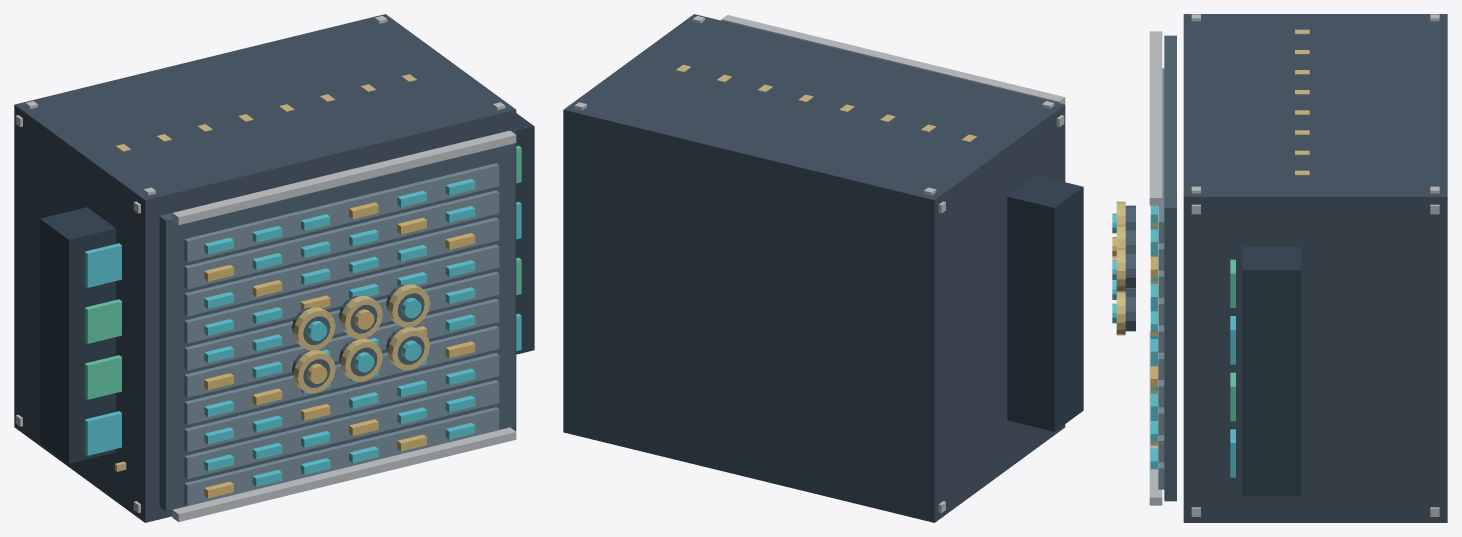
The model's file is 46_L81_PacketRetransmissionBuffer.glb.
3 renders of one model, left to right at view 1: azimuth 30°, elevation 25°; view 2: azimuth 150°, elevation 25°; view 3: azimuth 270°, elevation 25°, orthographic.
Visible parts, largest first — view 1: PacketRetransmissionBuffer_Node_0000, PacketRetransmissionBuffer_Node_0009, PacketRetransmissionBuffer_Node_0090, PacketRetransmissionBuffer_Node_0024, PacketRetransmissionBuffer_Node_0073, PacketRetransmissionBuffer_Node_0059, PacketRetransmissionBuffer_Node_0010, PacketRetransmissionBuffer_Node_0017, PacketRetransmissionBuffer_Node_0066, PacketRetransmissionBuffer_Node_0052, PacketRetransmissionBuffer_Node_0081, PacketRetransmissionBuffer_Node_0080 (+13 smaller); view 2: PacketRetransmissionBuffer_Node_0000, PacketRetransmissionBuffer_Node_0090, PacketRetransmissionBuffer_Node_0081; view 3: PacketRetransmissionBuffer_Node_0000, PacketRetransmissionBuffer_Node_0090, PacketRetransmissionBuffer_Node_0009, PacketRetransmissionBuffer_Node_0081, PacketRetransmissionBuffer_Node_0080, PacketRetransmissionBuffer_Node_0073, PacketRetransmissionBuffer_Node_0145, PacketRetransmissionBuffer_Node_0136, PacketRetransmissionBuffer_Node_0135, PacketRetransmissionBuffer_Node_0144.
Boxes of the visible parts, bbox=[...] form: PacketRetransmissionBuffer_Node_0000: bbox=[14, 14, 516, 522]; PacketRetransmissionBuffer_Node_0009: bbox=[159, 143, 514, 510]; PacketRetransmissionBuffer_Node_0090: bbox=[40, 113, 534, 463]; PacketRetransmissionBuffer_Node_0024: bbox=[184, 353, 499, 451]; PacketRetransmissionBuffer_Node_0073: bbox=[184, 163, 499, 262]; PacketRetransmissionBuffer_Node_0059: bbox=[184, 217, 499, 316]; PacketRetransmissionBuffer_Node_0010: bbox=[184, 407, 499, 506]; PacketRetransmissionBuffer_Node_0017: bbox=[184, 380, 499, 478]; PacketRetransmissionBuffer_Node_0066: bbox=[184, 190, 499, 289]; PacketRetransmissionBuffer_Node_0052: bbox=[184, 244, 499, 343]; PacketRetransmissionBuffer_Node_0081: bbox=[172, 130, 516, 225]; PacketRetransmissionBuffer_Node_0080: bbox=[172, 427, 516, 521]; PacketRetransmissionBuffer_Node_0000: bbox=[563, 14, 1065, 522]; PacketRetransmissionBuffer_Node_0090: bbox=[1007, 175, 1083, 431]; PacketRetransmissionBuffer_Node_0081: bbox=[721, 15, 1065, 104]; PacketRetransmissionBuffer_Node_0000: bbox=[1183, 14, 1447, 522]; PacketRetransmissionBuffer_Node_0090: bbox=[1242, 247, 1300, 496]; PacketRetransmissionBuffer_Node_0009: bbox=[1164, 35, 1176, 501]; PacketRetransmissionBuffer_Node_0081: bbox=[1149, 31, 1162, 205]; PacketRetransmissionBuffer_Node_0080: bbox=[1149, 331, 1162, 505]; PacketRetransmissionBuffer_Node_0073: bbox=[1158, 68, 1164, 243]; PacketRetransmissionBuffer_Node_0145: bbox=[1116, 248, 1125, 291]; PacketRetransmissionBuffer_Node_0136: bbox=[1116, 292, 1125, 335]; PacketRetransmissionBuffer_Node_0135: bbox=[1125, 295, 1135, 331]; PacketRetransmissionBuffer_Node_0144: bbox=[1125, 252, 1135, 287].
Size of the model in its own units: 1.48 by 0.998 by 0.9145.
